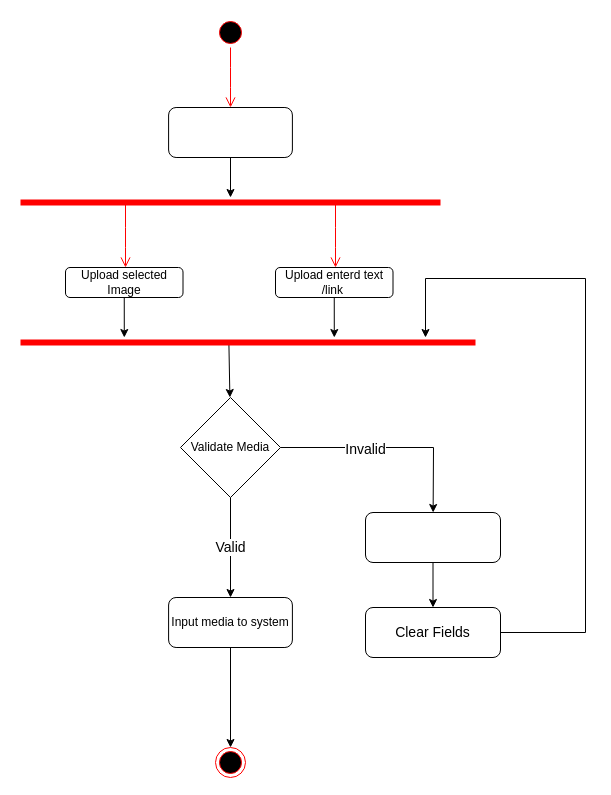
This 611x795 diagram has some shape labels left out. Each missing label, with the centre of its shape:
"Error Message" goes at point (432, 537).
"Upload Media" goes at point (230, 132).
